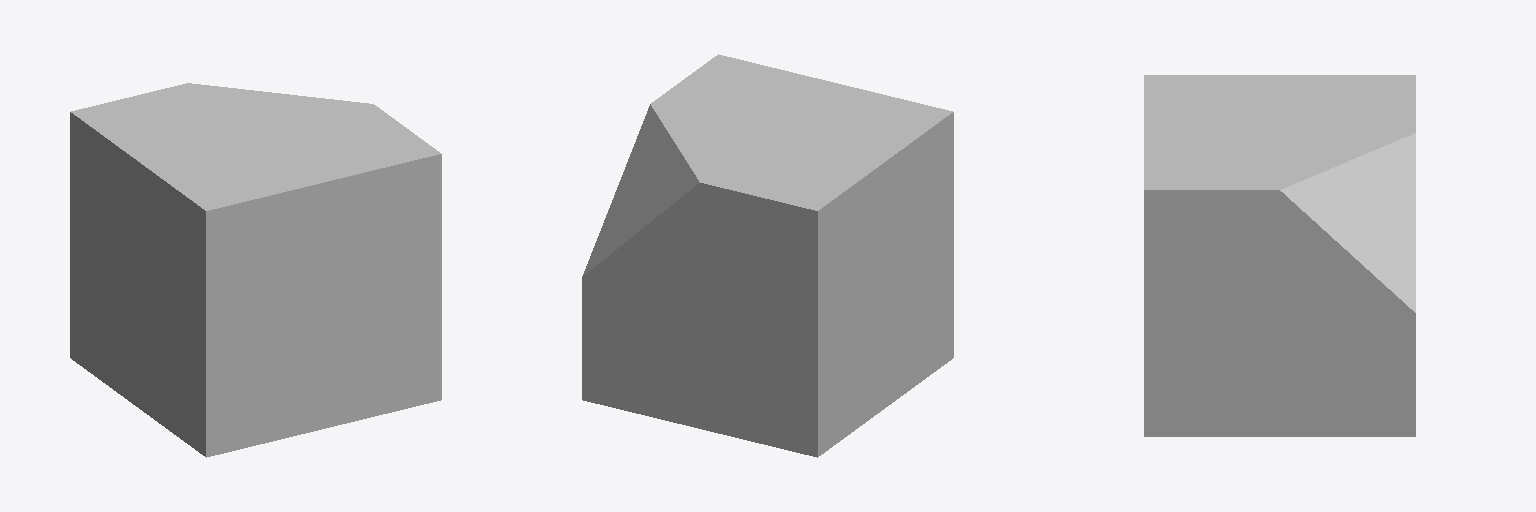
Rendered from trunc.obj.
The picture shows the model from 3 angles: view 1: azimuth 30°, elevation 25°; view 2: azimuth 150°, elevation 25°; view 3: azimuth 270°, elevation 25°; orthographic projection.
Visible parts, largest first — view 1: Cube_Cube.001; view 2: Cube_Cube.001; view 3: Cube_Cube.001.
Boxes of the visible parts, x1=… form: Cube_Cube.001: x1=70, y1=83, x2=441, y2=457; Cube_Cube.001: x1=582, y1=54, x2=953, y2=457; Cube_Cube.001: x1=1144, y1=75, x2=1415, y2=436.
Bounding box in the file's own units: 2 × 2 × 2.